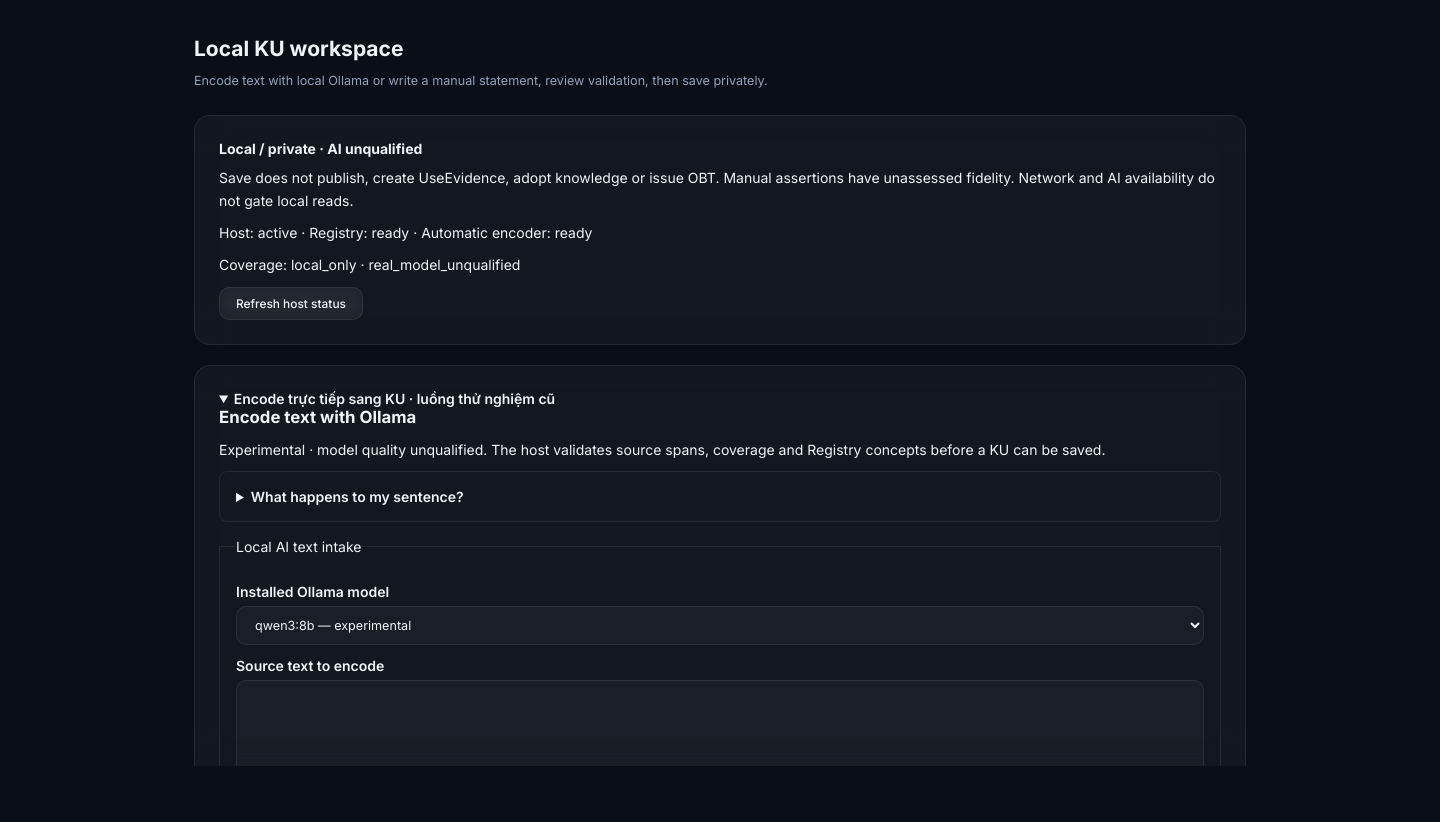
local KU component journey › explains concept label failures even when an older host has no field diagnostics
Type "Water boils." into the text box labelled "Source text to encode" at (720, 736), box top-left (236, 680), bottom-right (1204, 792)
(page scrolled)
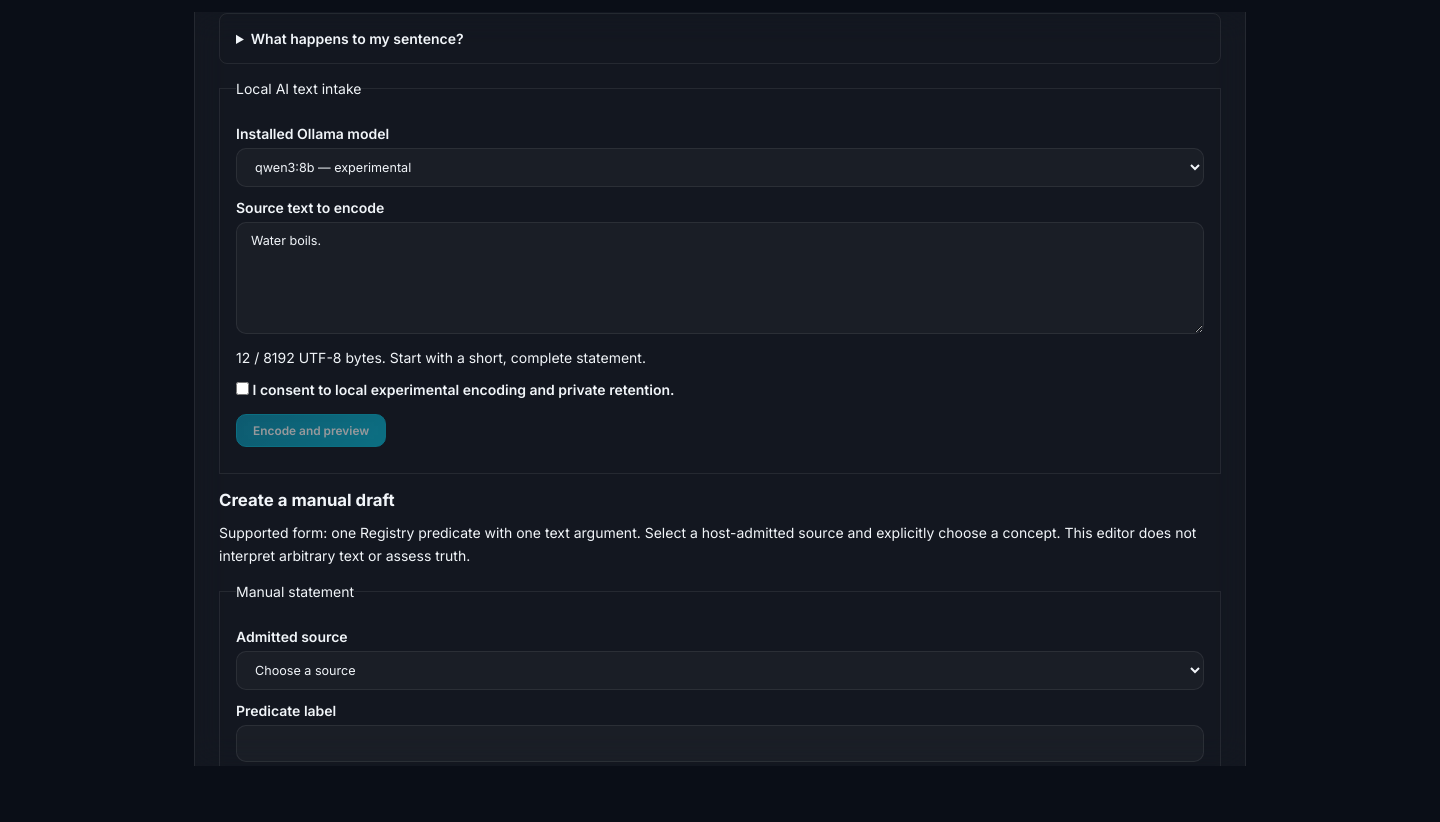
Click the checkbox at (242, 389), box top-left (236, 382), bottom-right (249, 396)
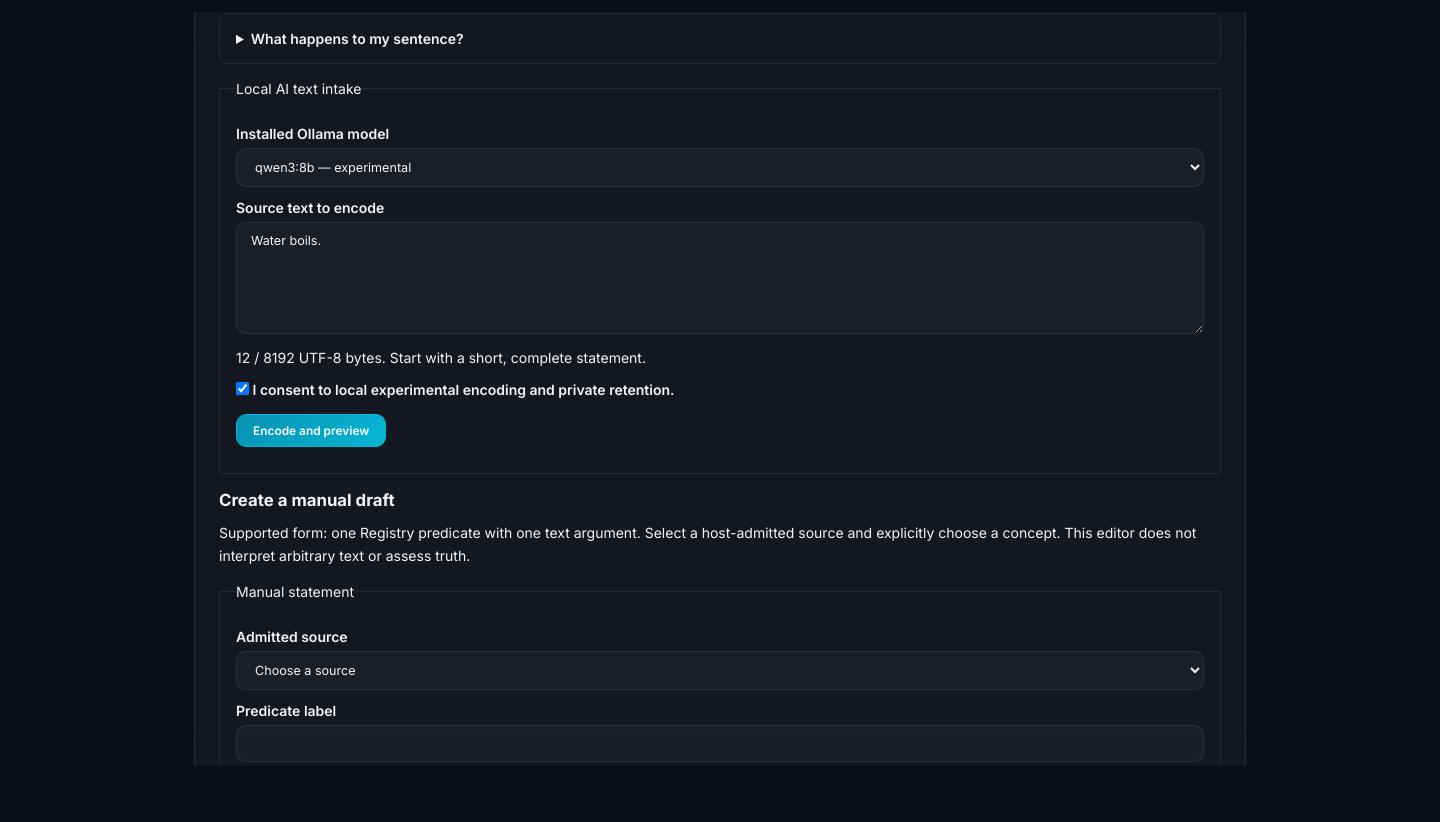
Click the button "Encode and preview" at (311, 431), box top-left (236, 414), bottom-right (386, 448)
(page scrolled)
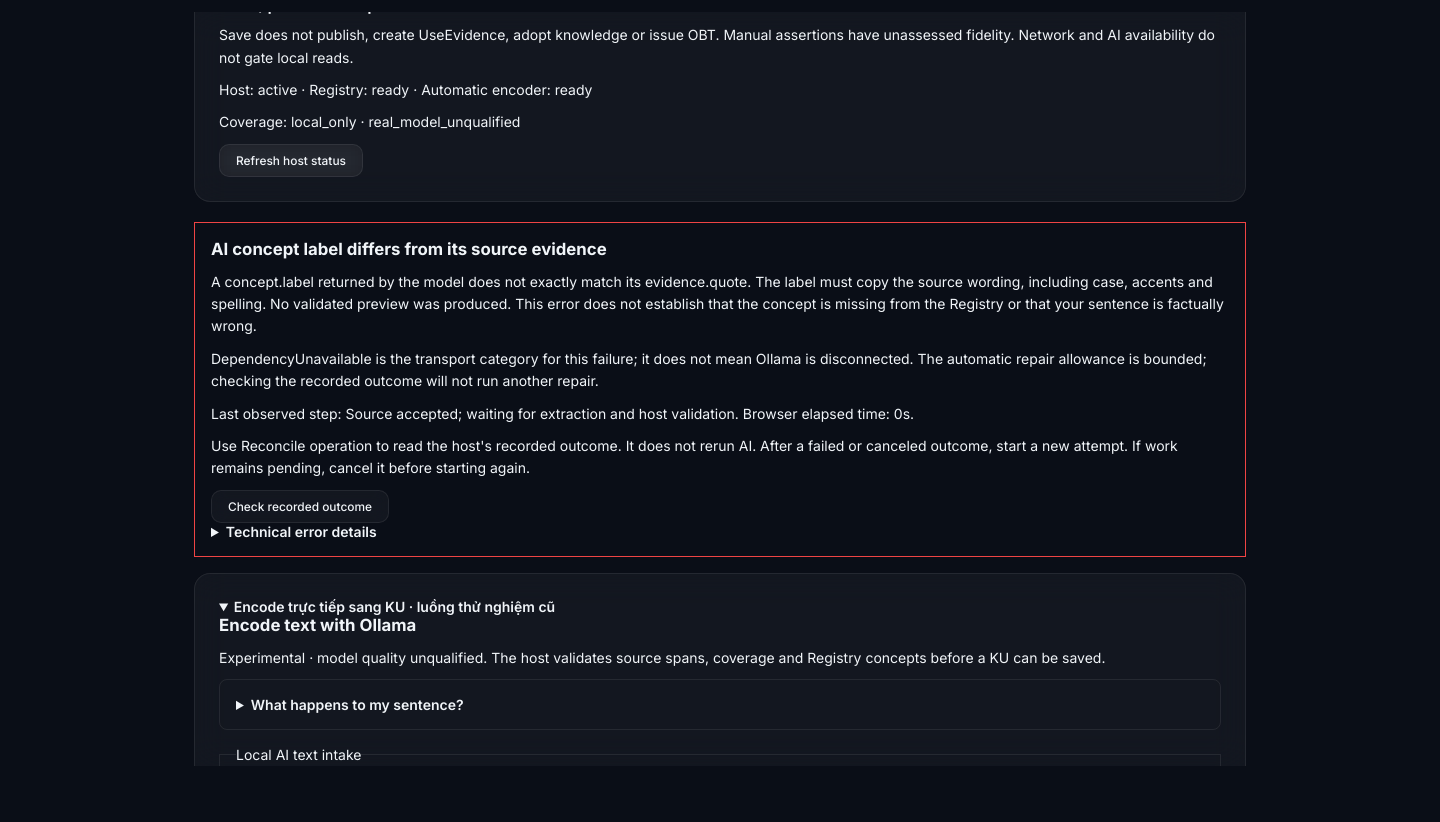
Expected: the heading "AI concept label differs from its source evidence" is shown, top-left (211, 239), bottom-right (607, 259)
Expected: the message shows "does not establish that the concept is missing from the Registry", top-left (211, 273), bottom-right (1224, 334)
Expected: the message shows "does not mean Ollama is disconnected", top-left (211, 350), bottom-right (1207, 389)
